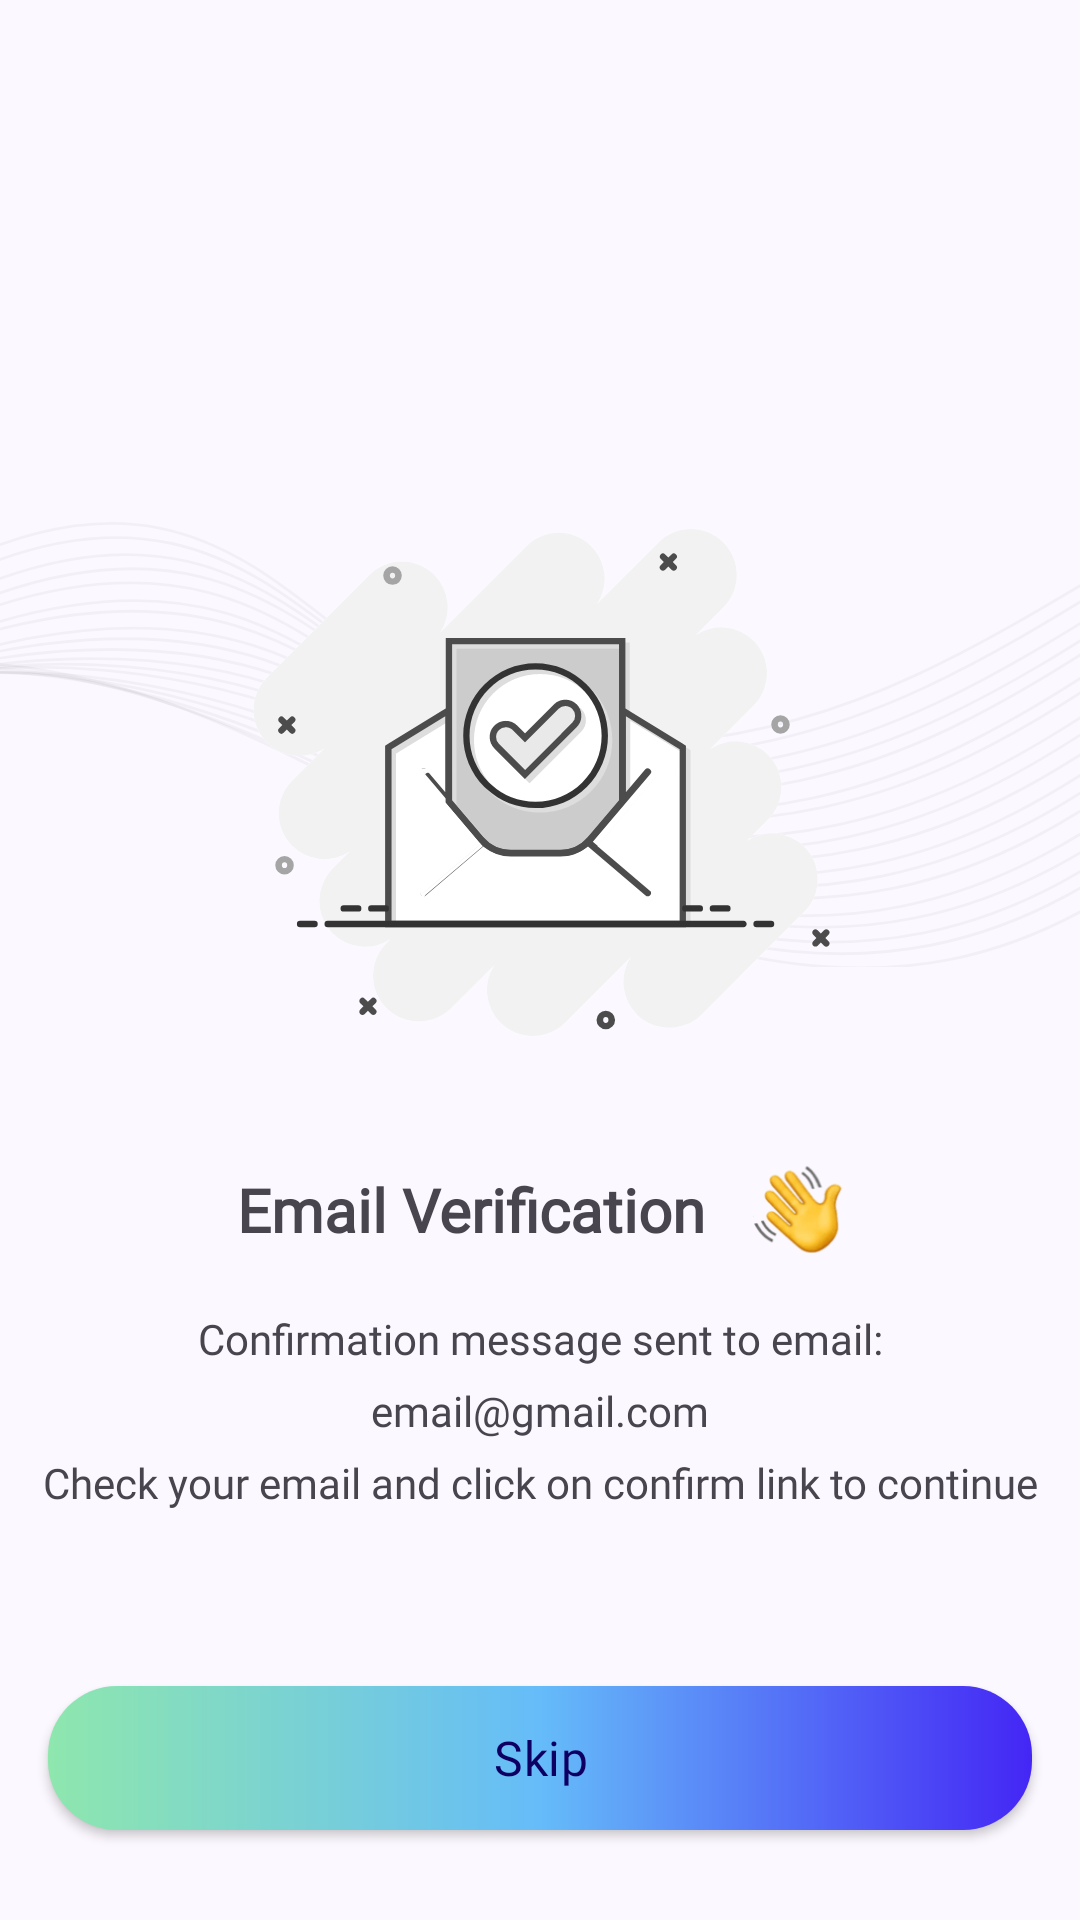

Named icons in this screenshot (1080w x 1920h) and their bounding boxes, [x1,y1,x2,y2]:
hand: [753,1166,842,1253]
